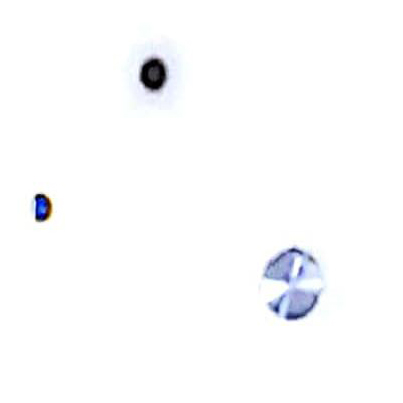abnormal: (230, 237, 339, 335)
cancer: (115, 32, 200, 117)
normal: (20, 187, 65, 231)
